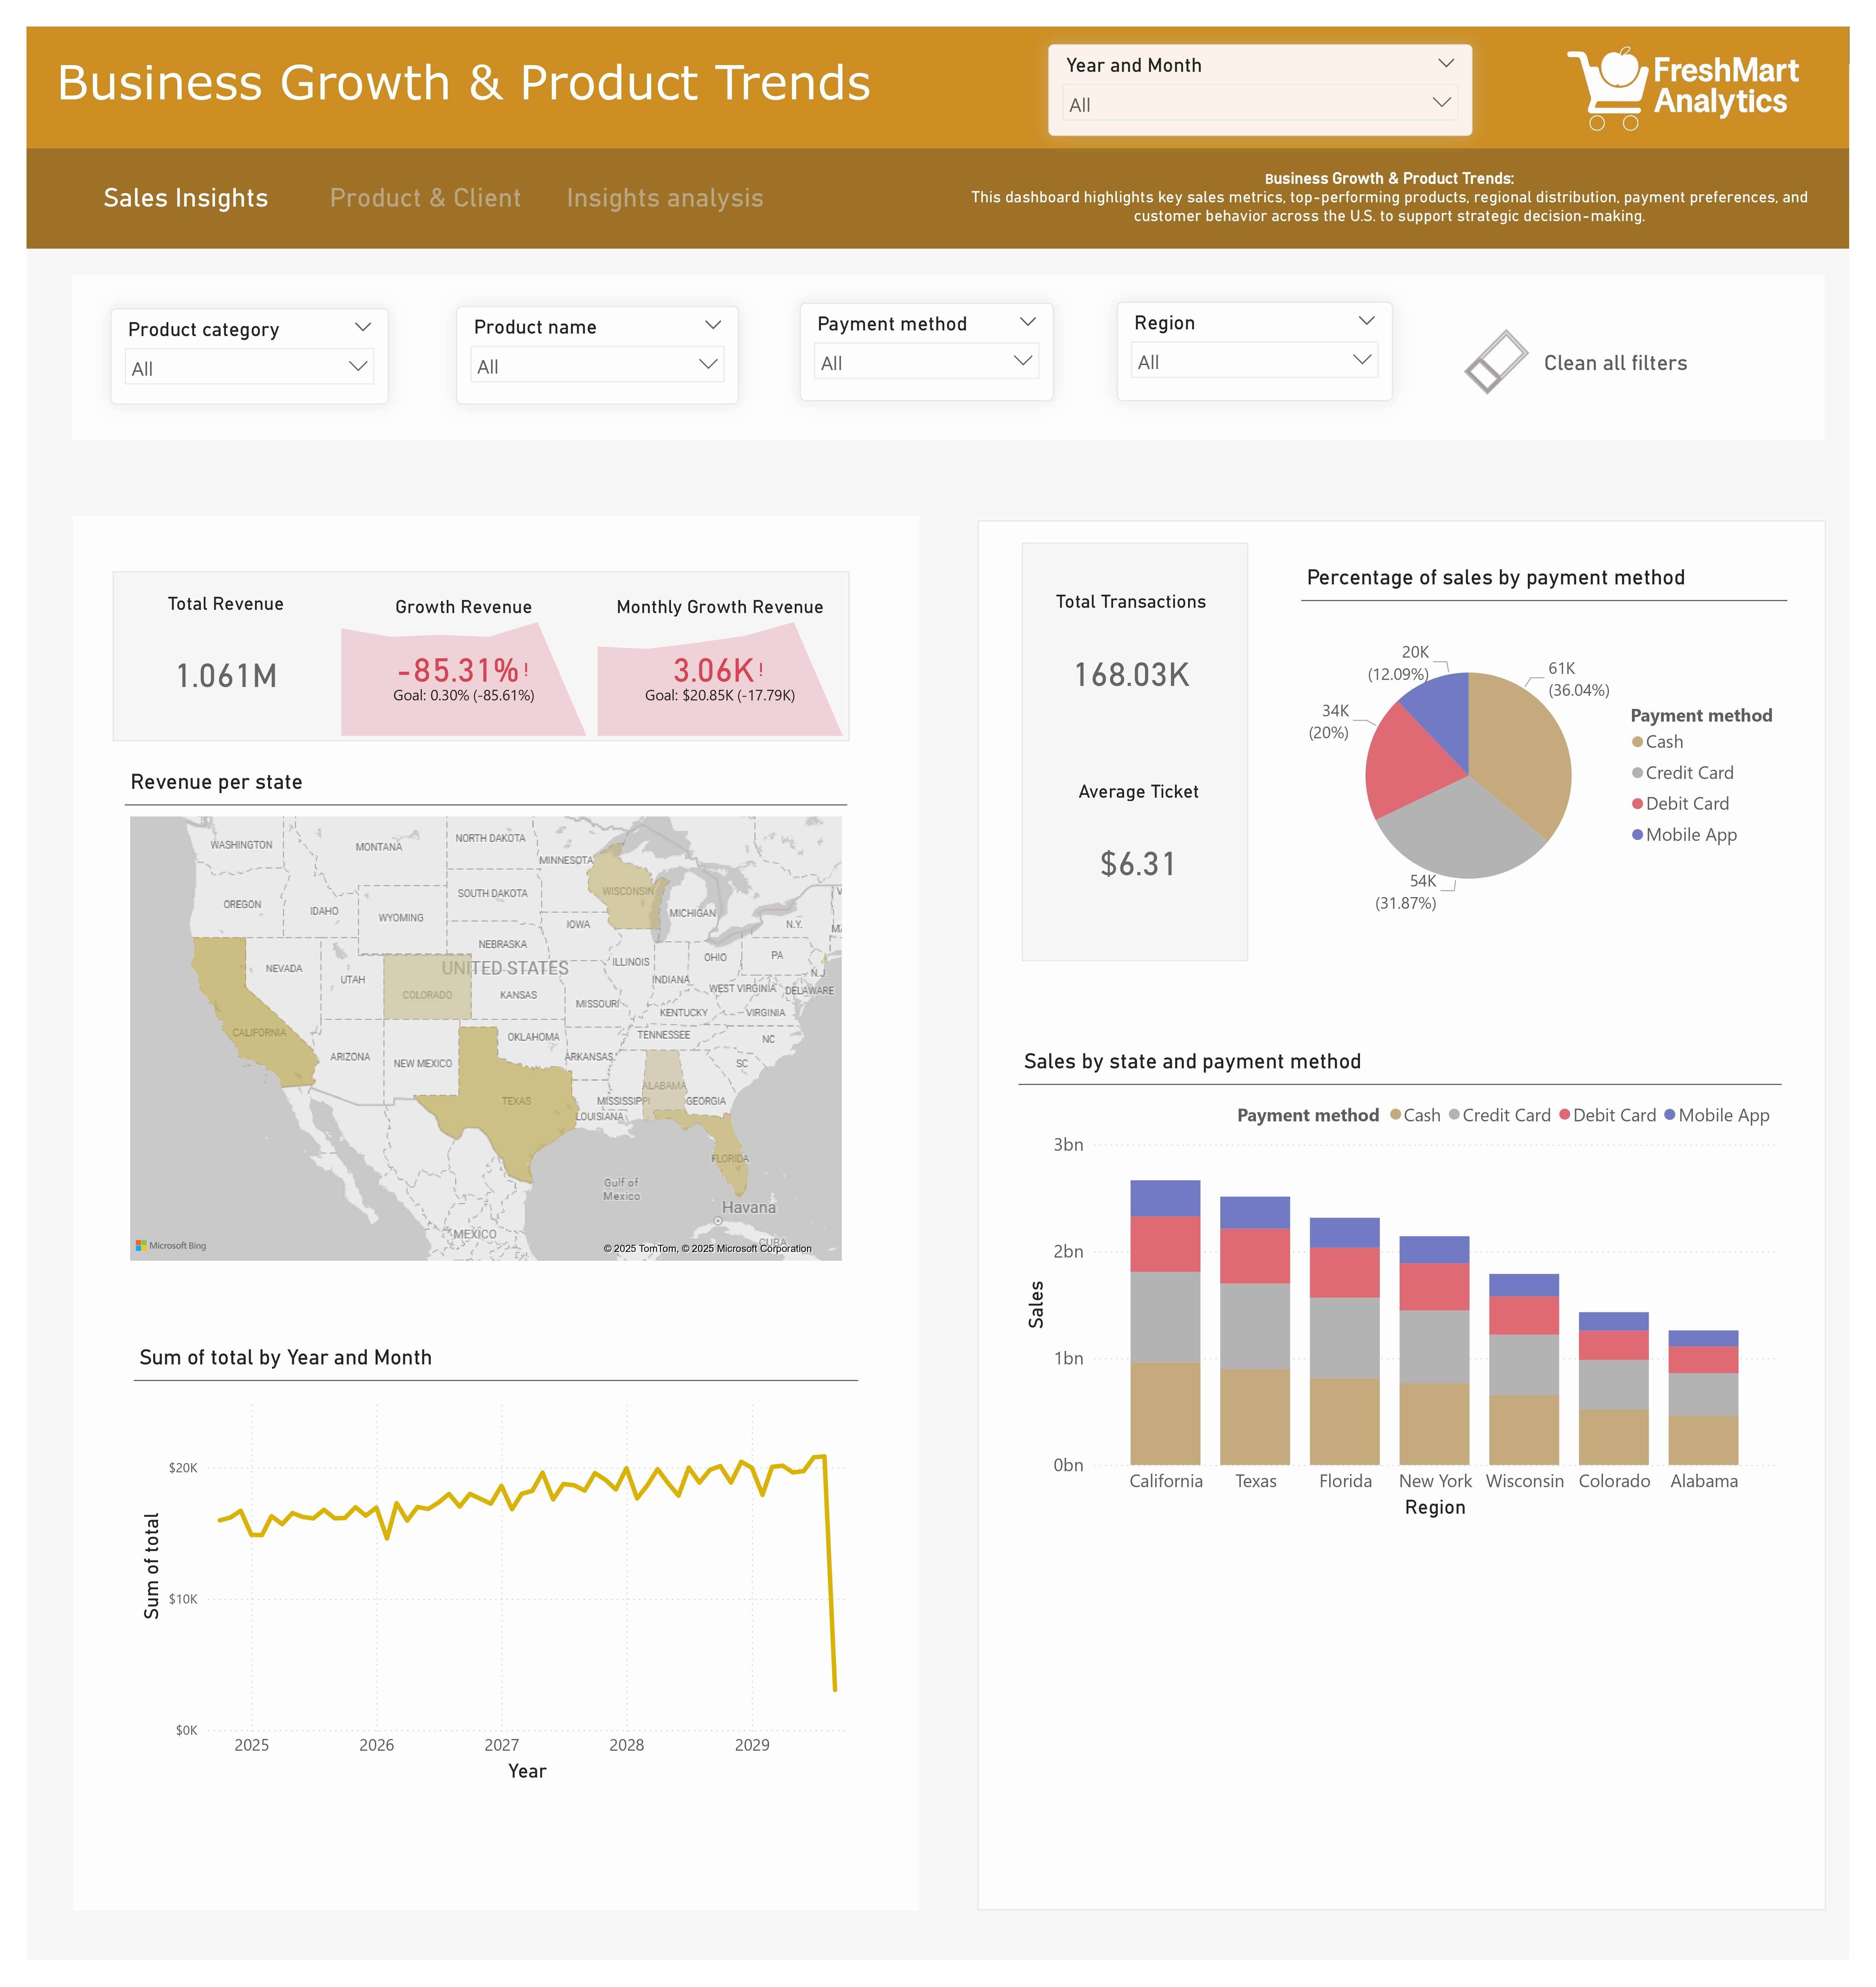

The page's visual inventory and layout, read from the dashboard file:
{"tool":"powerbi","page":{"name":"Sales and Products","canvas":[1650,1750],"ordinal":0},"visuals":[{"type":"shape","box":[74.4,224.4,1491.4,147.1],"z":0,"group":"g6"},{"type":"group","id":"g1","title":"Group 2","box":[70,443.8,766.7,661.7],"z":0},{"type":"shape","box":[70,443.8,766.7,661.7],"z":0,"group":"g8"},{"type":"shape","box":[900,444.3,669,1262.9],"z":0,"group":"g2"},{"type":"group","id":"g2","title":"Group 1","box":[900,444.3,668.6,1262.9],"z":1000},{"type":"lineChart","fields":{"Category":["Date.Date.Variation.Date Hierarchy.Year","Date.Date.Variation.Date Hierarchy.Month"],"Y":["Sum(sales.total)"]},"box":[116.7,682.1,656.7,400],"z":1000,"group":"g8"},{"type":"shape","box":[70,1125.7,766,582],"z":1000,"group":"g4"},{"type":"group","id":"g3","title":"Group 3","box":[106.7,493.6,666.8,154],"z":1500,"group":"g9"},{"type":"shape","box":[0,0,1800,110.4],"z":2000,"group":"g5"},{"type":"slicer","fields":{"Values":["products.category"]},"box":[108.8,254.5,245.6,87.8],"z":2000,"group":"g6"},{"type":"card","title":"Total Revenue","fields":{"Values":["Mediciones.Total revenue"]},"box":[106.7,512.6,205.2,127.1],"z":2000,"group":"g9"},{"type":"group","id":"g4","title":"Group 4","box":[70,1125.7,765.7,581.4],"z":2000},{"type":"group","id":"g5","title":"Group 6","box":[0,0,1800,110.4],"z":2002},{"type":"shape","box":[0,110.4,1800,76.3],"z":2003},{"type":"pageNavigator","box":[62.9,121.4,520,54.3],"z":2004},{"type":"textbox","box":[21.7,18.3,846.7,78.3],"z":2006},{"type":"image","box":[1356.9,7.7,286.2,102.3],"z":2007},{"type":"slicer","fields":{"Values":["products.name"]},"box":[414.4,252.2,250,90],"z":3000,"group":"g6"},{"type":"kpi","title":"Monthly Growth Revenue ","fields":{"Indicator":["Mediciones.Monthly Growth"],"Goal":["Mediciones.Monthly Growth (A month before)"],"TrendLine":["Date.Date.Variation.Date Hierarchy.Year"]},"box":[540.7,515.6,232.4,131.8],"z":3000,"group":"g9"},{"type":"slicer","fields":{"Values":["sales.payment_method"]},"box":[718.8,250,224.4,88.9],"z":4000,"group":"g6"},{"type":"kpi","title":"Growth Revenue","fields":{"Indicator":["Mediciones.Monthly Revenue Growth"],"Goal":["Mediciones.Monthly Revenue Growth (Two Months Before)"],"TrendLine":["Date.Date.Variation.Date Hierarchy.Year"]},"box":[308.3,515.6,232.4,131.8],"z":4000,"group":"g9"},{"type":"filledMap","title":"Revenue per state","fields":{"Category":["customers.region"]},"box":[106,1171.7,654,450],"z":4000,"group":"g4"},{"type":"barChart","fields":{"Category":["products.category Hierarchy.category","products.category Hierarchy.name"],"Y":["Mediciones.Total revenue"]},"box":[952.5,1267.8,596.3,403.6],"z":5000,"group":"g2"},{"type":"slicer","fields":{"Values":["sales.region"]},"box":[998.8,248.8,244.4,90],"z":6000,"group":"g6"},{"type":"group","id":"g6","title":"Group 8","box":[74.4,224.4,1491.4,147.1],"z":6001},{"type":"slicer","fields":{"Values":["sales.Year Hierarchy.Year","sales.Year Hierarchy.month name"]},"box":[925.4,16.2,383.8,83.1],"z":6002},{"type":"shape","box":[106.7,493.6,667.1,154.3],"z":10500,"group":"g3"},{"type":"tableEx","title":"Products","fields":{"Values":["products.name","products.category","Sum(sales.quantity)","Sum(sales.total)"]},"box":[938.6,765.4,610.2,425.8],"z":11000,"group":"g7"},{"type":"group","id":"g7","title":"Group 2","box":[938.6,765.4,610.2,425.8],"z":13000,"group":"g2"},{"type":"shape","title":"Product Analysis","box":[943.8,490.8,575.2,270.4],"z":14000,"group":"g2"},{"type":"card","title":"Top pRO","fields":{"Values":["Mediciones.Top Product by Revenue"]},"box":[921.3,572.8,328.9,121.1],"z":15000,"group":"g2"},{"type":"card","fields":{"Values":["Mediciones.Top Product Revenue"]},"box":[1260.1,576.5,272.6,117.5],"z":16000,"group":"g2"},{"type":"group","id":"g8","title":"Group 7","box":[70,443.8,766.7,661.7],"z":16003,"group":"g1"},{"type":"group","id":"g9","title":"Group 5","box":[106.7,493.6,666.8,154],"z":16003,"group":"g8"}]}

Visuals, with their boxes in screenshot pixels (x1, y1, x2, y2), scaled from the page's 1650x1750 canvas onto the 1876x1987 screenshot:
shape: left=85, top=255, right=1780, bottom=422
"Group 2" group: left=80, top=504, right=951, bottom=1255
shape: left=80, top=504, right=951, bottom=1255
shape: left=1023, top=504, right=1784, bottom=1939
"Group 1" group: left=1023, top=504, right=1783, bottom=1939
lineChart - Date.Date.Variation.Date Hierarchy.Year x Date.Date.Variation.Date Hierarchy.Month: left=133, top=774, right=879, bottom=1229
shape: left=80, top=1278, right=950, bottom=1939
"Group 3" group: left=121, top=560, right=879, bottom=735
shape: left=0, top=0, right=1876, bottom=125
slicer - products.category: left=124, top=289, right=403, bottom=389
"Total Revenue" card: left=121, top=582, right=355, bottom=726
"Group 4" group: left=80, top=1278, right=950, bottom=1938
"Group 6" group: left=0, top=0, right=1876, bottom=125
shape: left=0, top=125, right=1876, bottom=212
pageNavigator: left=71, top=138, right=663, bottom=200
textbox: left=25, top=21, right=988, bottom=110
image: left=1543, top=9, right=1868, bottom=125
slicer - products.name: left=471, top=286, right=755, bottom=388
"Monthly Growth Revenue " kpi: left=615, top=585, right=879, bottom=735
slicer - sales.payment_method: left=817, top=284, right=1072, bottom=385
"Growth Revenue" kpi: left=351, top=585, right=615, bottom=735
"Revenue per state" filledMap: left=121, top=1330, right=864, bottom=1841
barChart - products.category Hierarchy.category x products.category Hierarchy.name: left=1083, top=1439, right=1761, bottom=1898
slicer - sales.region: left=1136, top=283, right=1413, bottom=385
"Group 8" group: left=85, top=255, right=1780, bottom=422
slicer - sales.Year Hierarchy.Year x sales.Year Hierarchy.month name: left=1052, top=18, right=1488, bottom=113
shape: left=121, top=560, right=880, bottom=736
"Products" tableEx: left=1067, top=869, right=1761, bottom=1352
"Group 2" group: left=1067, top=869, right=1761, bottom=1352
"Product Analysis" shape: left=1073, top=557, right=1727, bottom=864
"Top pRO" card: left=1048, top=651, right=1422, bottom=788
card - Mediciones.Top Product Revenue: left=1433, top=654, right=1743, bottom=788
"Group 7" group: left=80, top=504, right=951, bottom=1255
"Group 5" group: left=121, top=560, right=879, bottom=735
